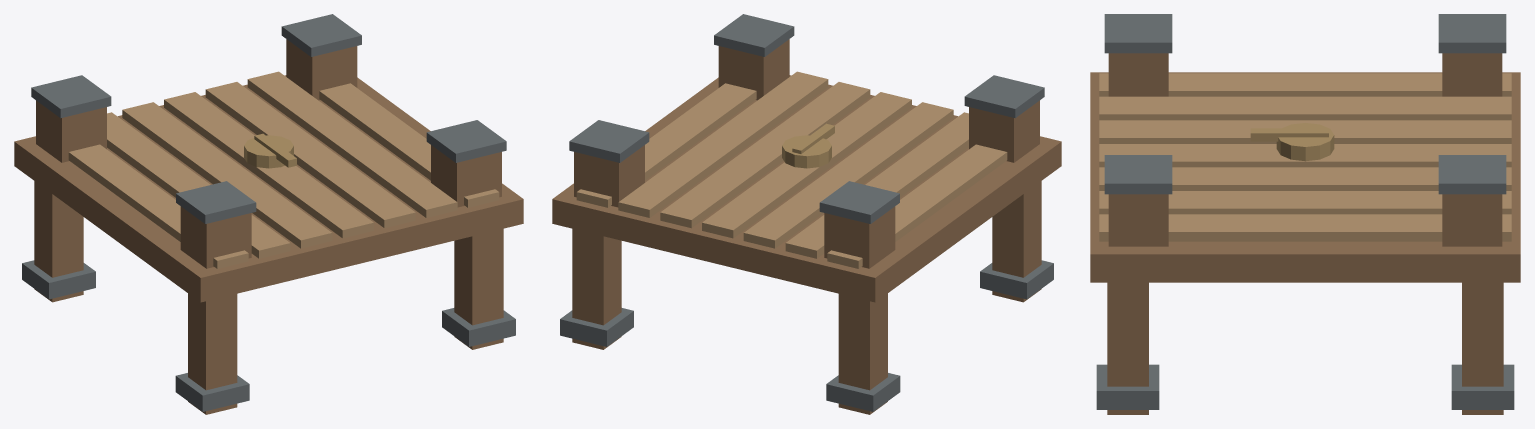
File: vf_merger.glb
3 views of the same model, side by side, from view 1: azimuth 30°, elevation 25°; view 2: azimuth 150°, elevation 25°; view 3: azimuth 270°, elevation 25° (orthographic). The views are drawn at different scales.
Parts seen in each view (by area): view 1: Static_Oak, Static_OakLight, Static_Iron, Selector_Bronze; view 2: Static_Oak, Static_OakLight, Static_Iron, Selector_Bronze; view 3: Static_OakLight, Static_Oak, Static_Iron, Selector_Bronze.
Part boxes in pixels (<box>): Static_Oak: <box>14,39,523,414</box>; Static_OakLight: <box>68,71,499,268</box>; Static_Iron: <box>22,14,515,411</box>; Selector_Bronze: <box>244,133,296,168</box>; Static_Oak: <box>552,39,1061,414</box>; Static_OakLight: <box>576,71,1007,268</box>; Static_Iron: <box>560,14,1053,411</box>; Selector_Bronze: <box>782,123,834,168</box>; Static_OakLight: <box>1099,73,1511,241</box>; Static_Oak: <box>1090,53,1520,414</box>; Static_Iron: <box>1096,14,1514,409</box>; Selector_Bronze: <box>1250,123,1334,161</box>.
Bounding box in the file's own units: 1.65 × 0.9825 × 1.65.
